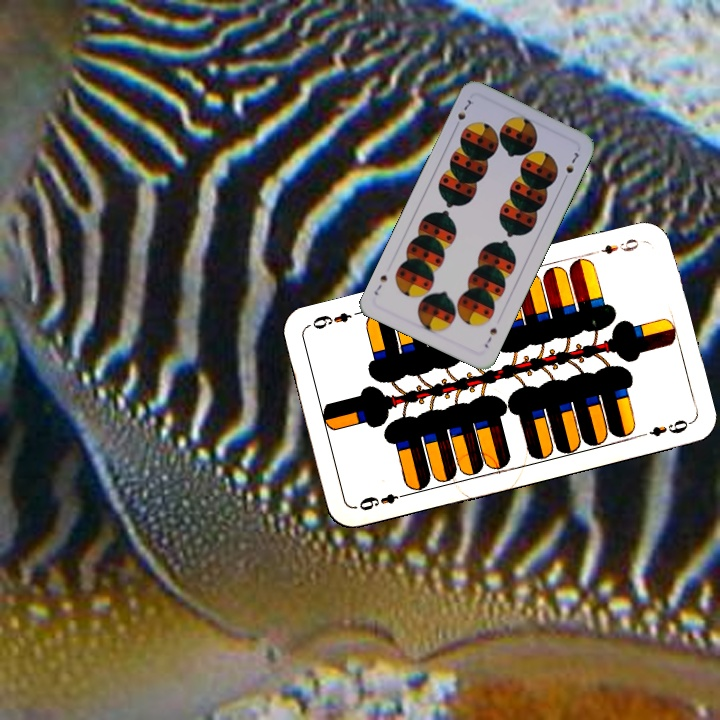E9: (355, 489, 411, 514), (597, 234, 642, 257)
S7: (450, 95, 475, 132), (480, 324, 500, 351)
